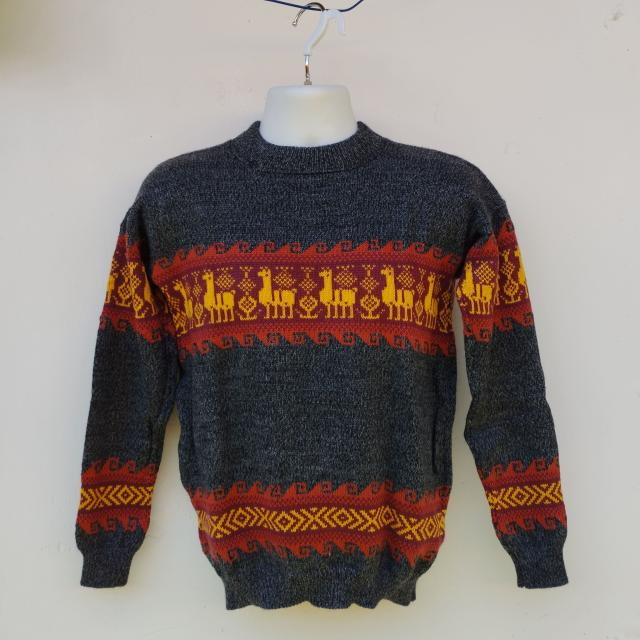Chompa: (74, 105, 568, 611)
